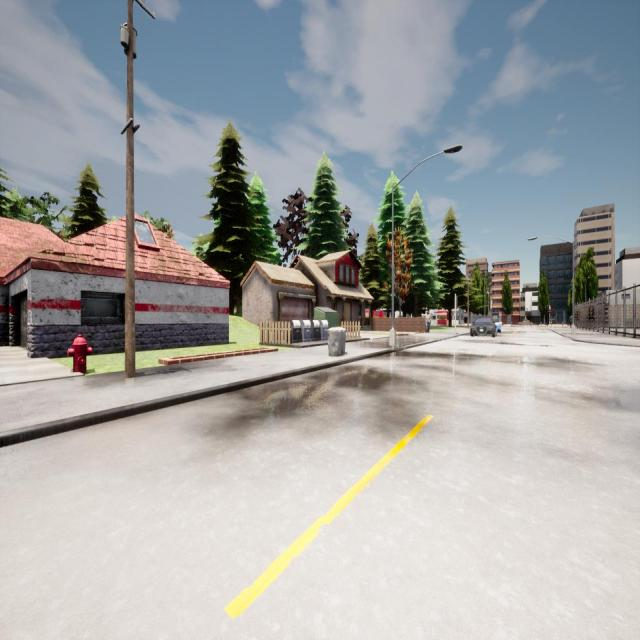Pedestrian: (426, 311, 431, 333), (570, 314, 572, 328)
Vehicle: (470, 316, 497, 336), (492, 319, 502, 332)
traffic_light: (548, 307, 552, 313), (456, 297, 458, 309)
